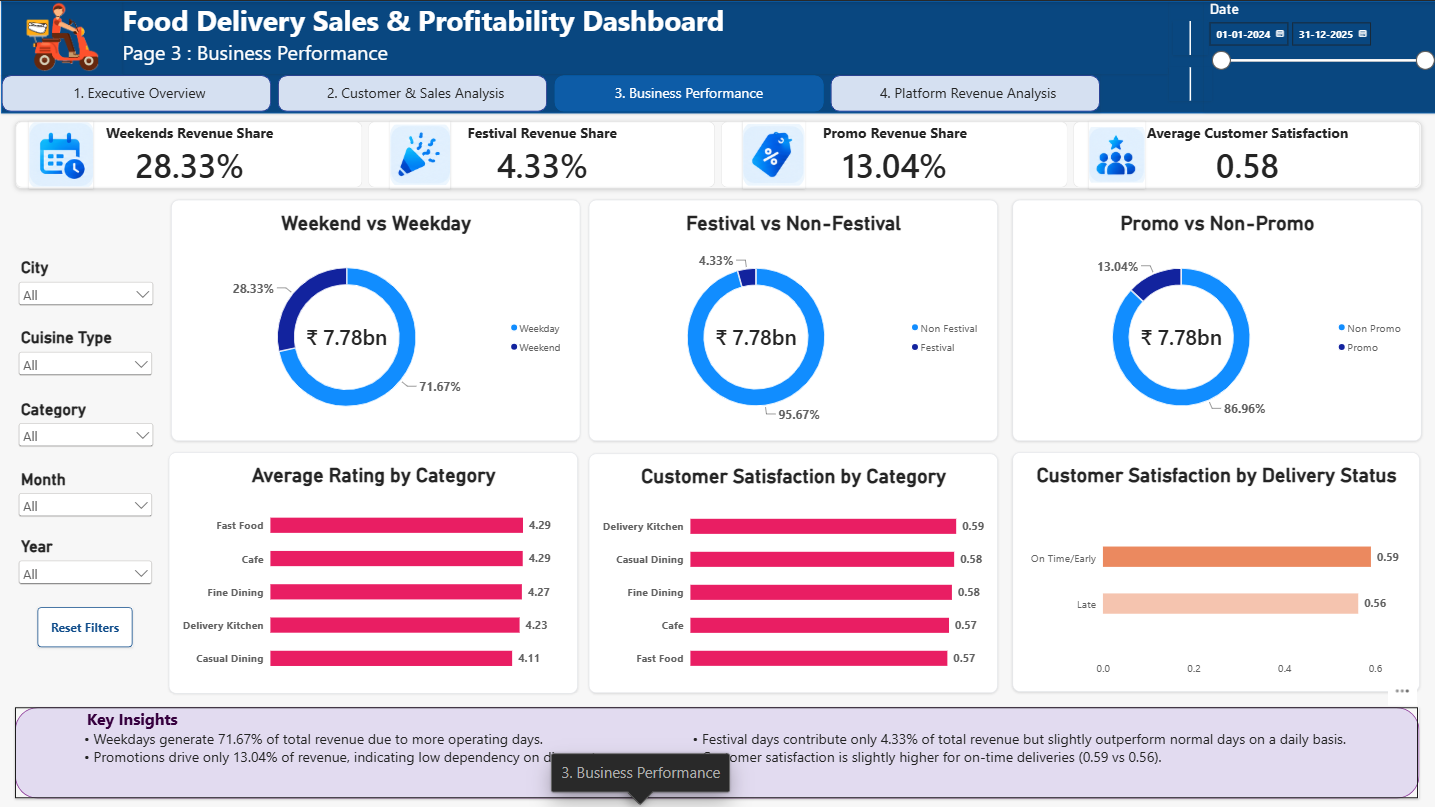

Layout of this report page (visuals, bound fields, positions):
{"tool":"powerbi","page":{"name":"3. Business Performance","canvas":[1920,1080],"ordinal":2},"visuals":[{"type":"cardVisual","fields":{"Data":["daily_sales.Weekend Revenue %","daily_sales.Festival Revenue %","daily_sales.Promo Revenue %","daily_sales.Average Customer Satisfaction"]},"box":[20.2,160.1,1879.2,90.2],"z":0},{"type":"shape","box":[20,944,1876,122],"z":1000},{"type":"shape","box":[2,0,1918,150],"z":2000},{"type":"pageNavigator","box":[2,98,1468,50],"z":3000},{"type":"slicer","fields":{"Values":["daily_sales.Date"]},"box":[1608,0,312,148],"z":4000},{"type":"image","box":[0,0,164,98],"z":5000},{"type":"slicer","fields":{"Values":["daily_sales.City"]},"box":[20,344,190,94],"z":6000},{"type":"slicer","fields":{"Values":["daily_sales.Cuisine_Type"]},"box":[20,438,188,94],"z":7000},{"type":"slicer","fields":{"Values":["daily_sales.Month"]},"box":[20,626,188,94],"z":8000},{"type":"slicer","fields":{"Values":["daily_sales.Category"]},"box":[20,532,190,94],"z":9000},{"type":"slicer","fields":{"Values":["daily_sales.Year"]},"box":[20,716,188,94],"z":10000},{"type":"textbox","box":[163.8,0,1396.9,97.5],"z":11000},{"type":"donutChart","title":"Weekend vs Weekday","fields":{"Category":["daily_sales.Weekend Type"],"Y":["daily_sales.Total Net Sales"]},"box":[228,266,546,322],"z":12000},{"type":"donutChart","title":"Festival vs Non-Festival","fields":{"Category":["daily_sales.Festival Type"],"Y":["daily_sales.Total Net Sales"]},"box":[786,266,546,322],"z":13000},{"type":"donutChart","title":"Promo vs Non-Promo","fields":{"Category":["daily_sales.Promo Type"],"Y":["daily_sales.Total Net Sales"]},"box":[1352,266,546,322],"z":14000},{"type":"clusteredBarChart","title":"Average Rating by Category","fields":{"Category":["daily_sales.Category"],"Y":["daily_sales.Average Rating"]},"box":[226,602,546,322],"z":15000},{"type":"clusteredBarChart","title":"Customer Satisfaction by Category","fields":{"Category":["daily_sales.Category"],"Y":["daily_sales.Average Customer Satisfaction"]},"box":[786,604,546,320],"z":16000},{"type":"clusteredBarChart","title":"Customer Satisfaction by Delivery Status","fields":{"Category":["daily_sales.Delivery Bucket"],"Y":["daily_sales.Average Customer Satisfaction"]},"box":[1352,602,544,320],"z":17000},{"type":"textbox","box":[20.2,944.2,1875.5,121.5],"z":18000},{"type":"image","box":[38.7,160.1,86.5,90.2],"z":19000},{"type":"image","box":[520.9,160.1,81,90.2],"z":20000},{"type":"image","box":[992,160.1,82.8,90.2],"z":21000},{"type":"image","box":[1454,160.1,75.5,90.2],"z":22000},{"type":"shape","box":[1560.8,88.5,57.7,44.6],"z":23000},{"type":"shape","box":[1566,26,47.3,45.3],"z":24000},{"type":"actionButton","box":[49.7,809.8,127,53.4],"z":25000}]}

Visuals, with their boxes on the page's 1920x1080 design canvas (x1, y1, x2, y2). These are canvas units, not pixel positions in the 1435x807 screenshot, which may show the page scaled, cropped or inside an application window:
cardVisual - daily_sales.Weekend Revenue % x daily_sales.Festival Revenue %: pyautogui.locateOnScreen(20, 160, 1899, 250)
shape: pyautogui.locateOnScreen(20, 944, 1896, 1066)
shape: pyautogui.locateOnScreen(2, 0, 1920, 150)
pageNavigator: pyautogui.locateOnScreen(2, 98, 1470, 148)
slicer - daily_sales.Date: pyautogui.locateOnScreen(1608, 0, 1920, 148)
image: pyautogui.locateOnScreen(0, 0, 164, 98)
slicer - daily_sales.City: pyautogui.locateOnScreen(20, 344, 210, 438)
slicer - daily_sales.Cuisine_Type: pyautogui.locateOnScreen(20, 438, 208, 532)
slicer - daily_sales.Month: pyautogui.locateOnScreen(20, 626, 208, 720)
slicer - daily_sales.Category: pyautogui.locateOnScreen(20, 532, 210, 626)
slicer - daily_sales.Year: pyautogui.locateOnScreen(20, 716, 208, 810)
textbox: pyautogui.locateOnScreen(164, 0, 1561, 98)
"Weekend vs Weekday" donutChart: pyautogui.locateOnScreen(228, 266, 774, 588)
"Festival vs Non-Festival" donutChart: pyautogui.locateOnScreen(786, 266, 1332, 588)
"Promo vs Non-Promo" donutChart: pyautogui.locateOnScreen(1352, 266, 1898, 588)
"Average Rating by Category" clusteredBarChart: pyautogui.locateOnScreen(226, 602, 772, 924)
"Customer Satisfaction by Category" clusteredBarChart: pyautogui.locateOnScreen(786, 604, 1332, 924)
"Customer Satisfaction by Delivery Status" clusteredBarChart: pyautogui.locateOnScreen(1352, 602, 1896, 922)
textbox: pyautogui.locateOnScreen(20, 944, 1896, 1066)
image: pyautogui.locateOnScreen(39, 160, 125, 250)
image: pyautogui.locateOnScreen(521, 160, 602, 250)
image: pyautogui.locateOnScreen(992, 160, 1075, 250)
image: pyautogui.locateOnScreen(1454, 160, 1530, 250)
shape: pyautogui.locateOnScreen(1561, 88, 1618, 133)
shape: pyautogui.locateOnScreen(1566, 26, 1613, 71)
actionButton: pyautogui.locateOnScreen(50, 810, 177, 863)
